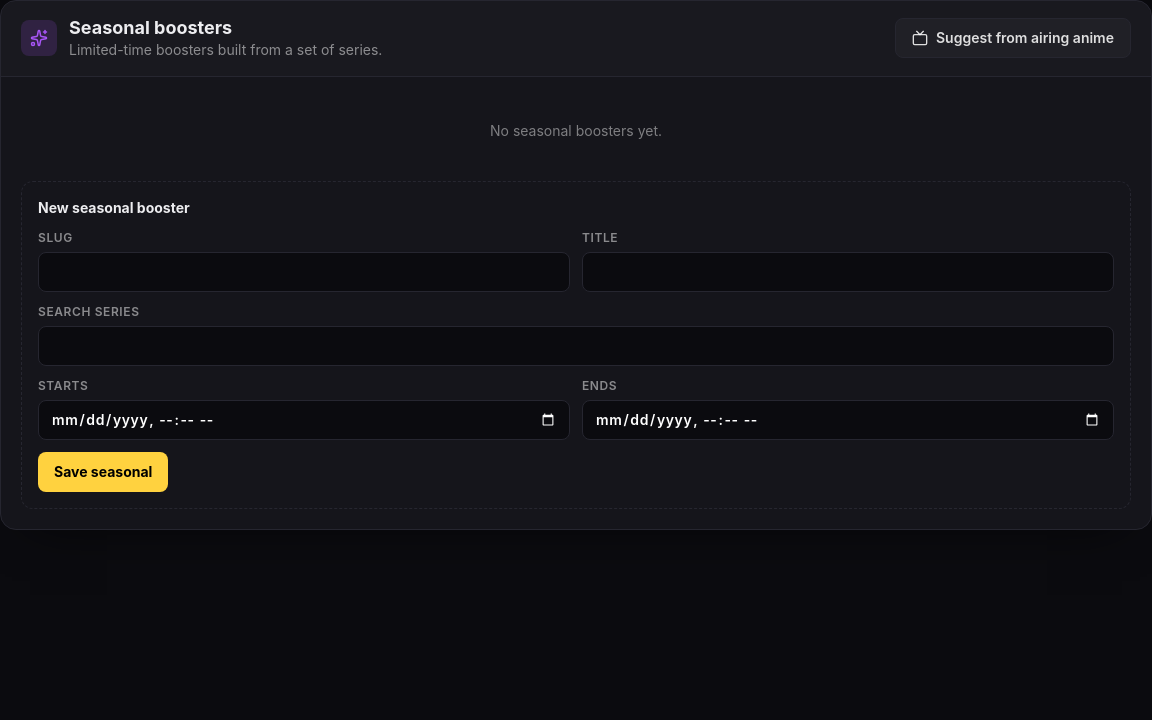
Test: SeasonalPanel › validates locally ()
Type "winter" into the field labelled "Slug" at (304, 272), box [38,252,570,292]
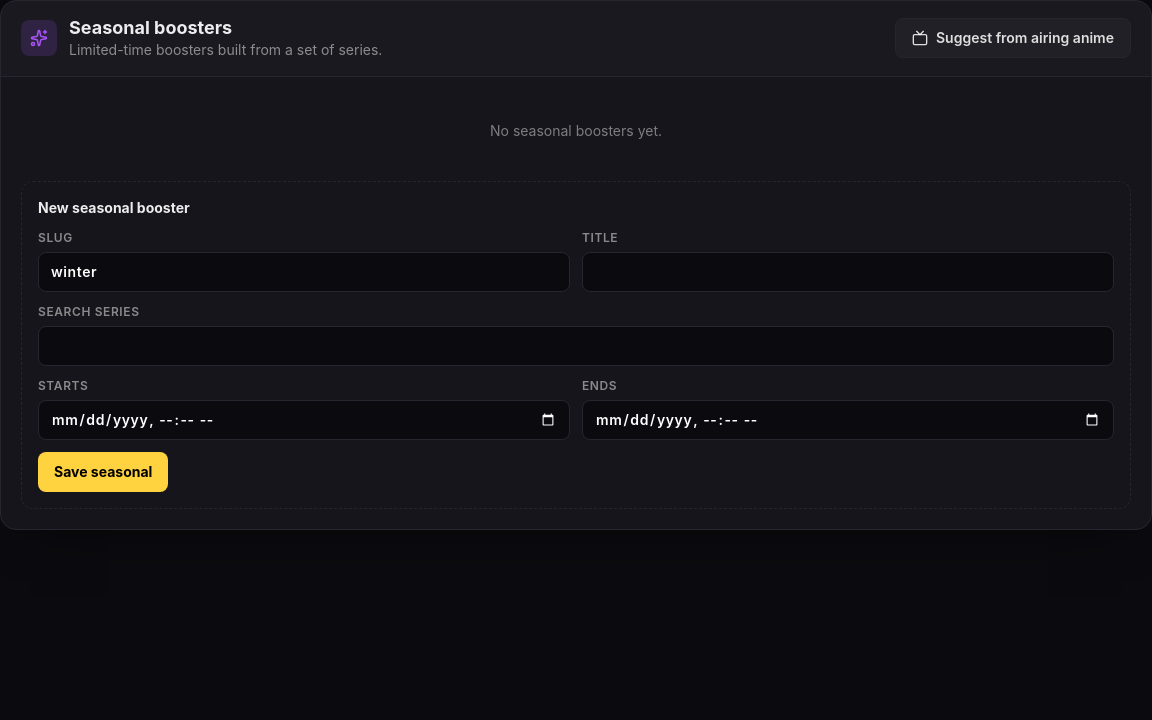
Type "2026-12-01T10:00" into the field labelled "Starts" at (304, 420), box [38,400,570,440]
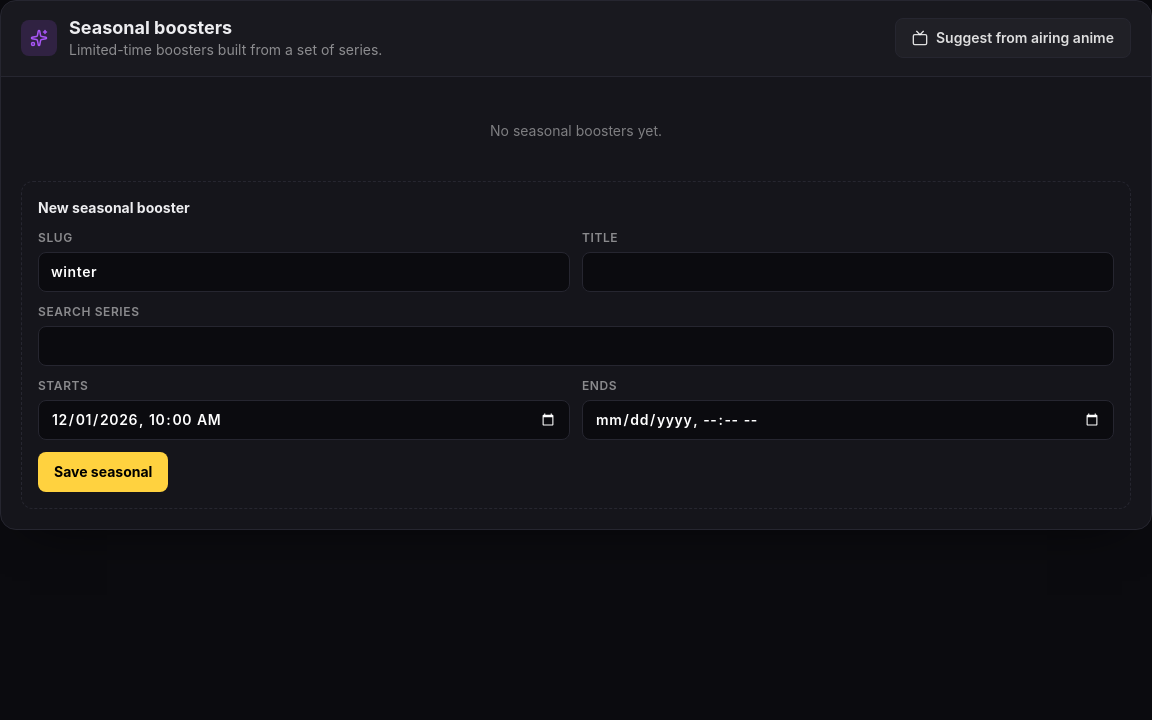
Type "2026-12-02T10:00" into the field labelled "Ends" at (848, 420), box [582,400,1114,440]
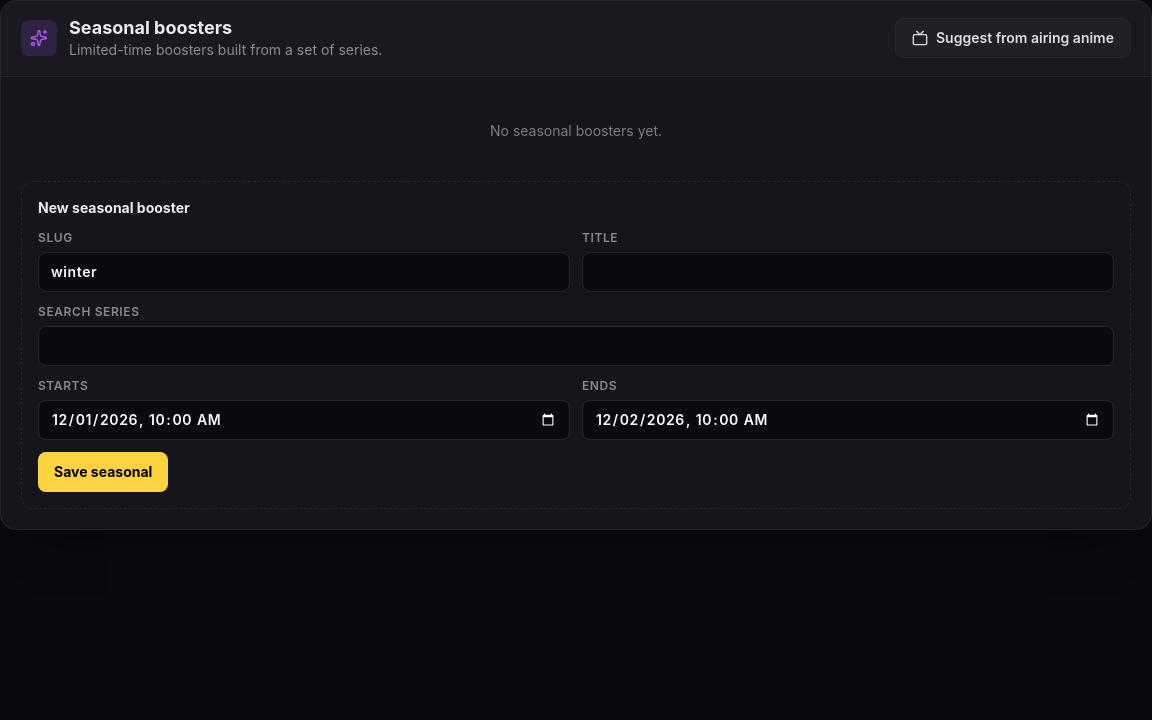
Type "na" into the field labelled "Search series" at (576, 346), box [38,326,1114,366]
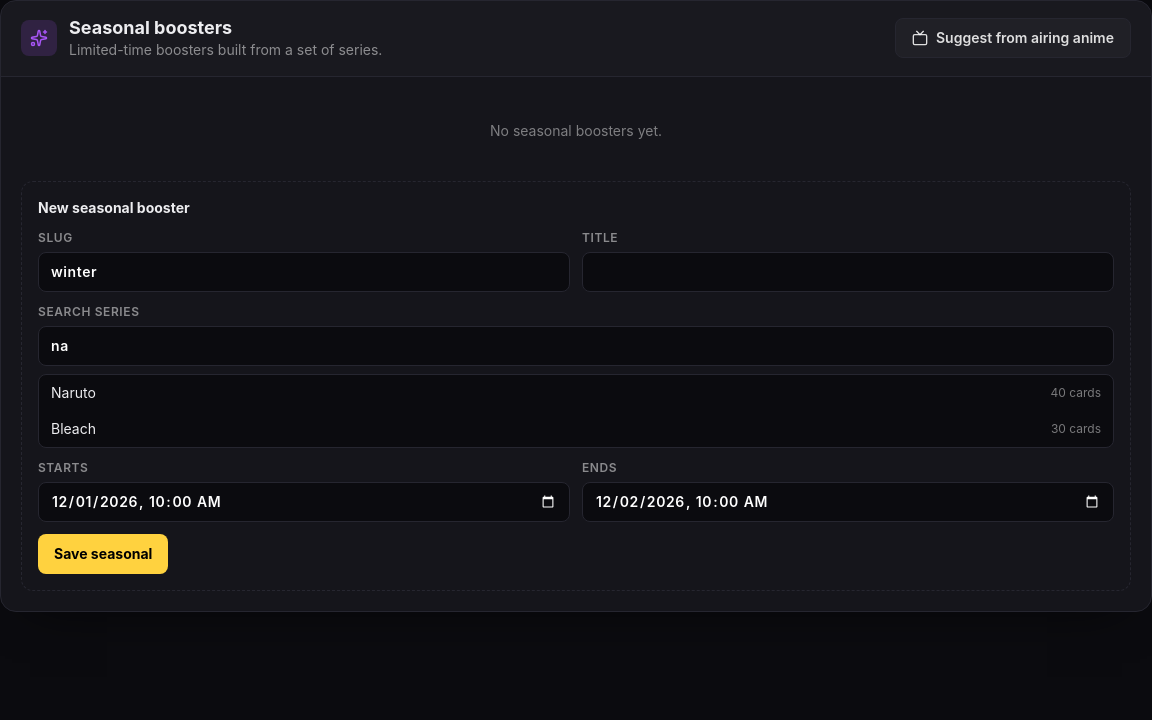
Click the button "Naruto 40 cards" at (73, 392), box [39,374,1113,410]
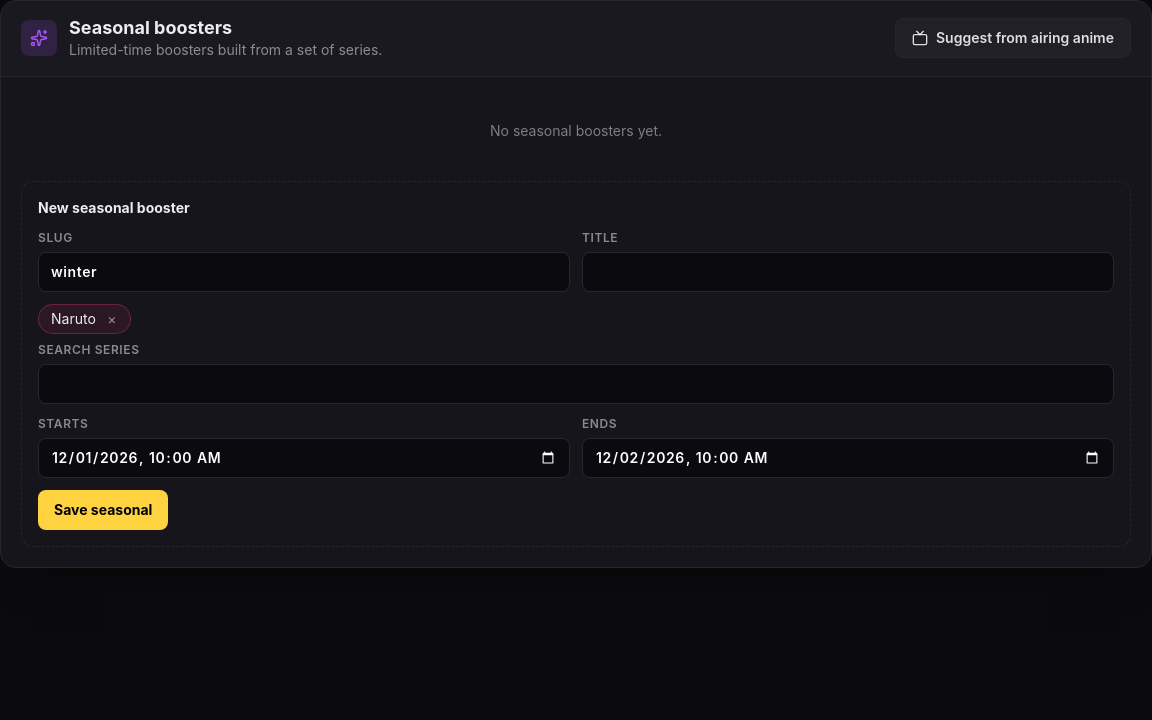
Click the button "Save seasonal" at (103, 510), box [38,490,168,530]
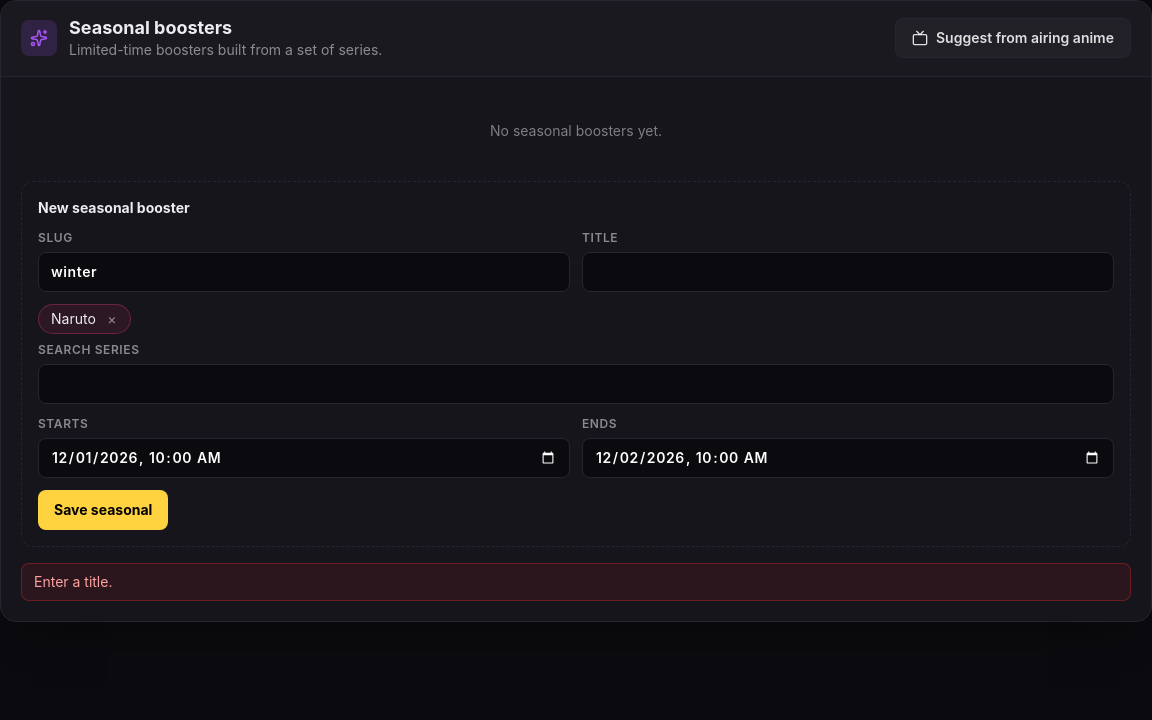
Now the text "Enter a title." is shown, box [21,562,1131,600]
